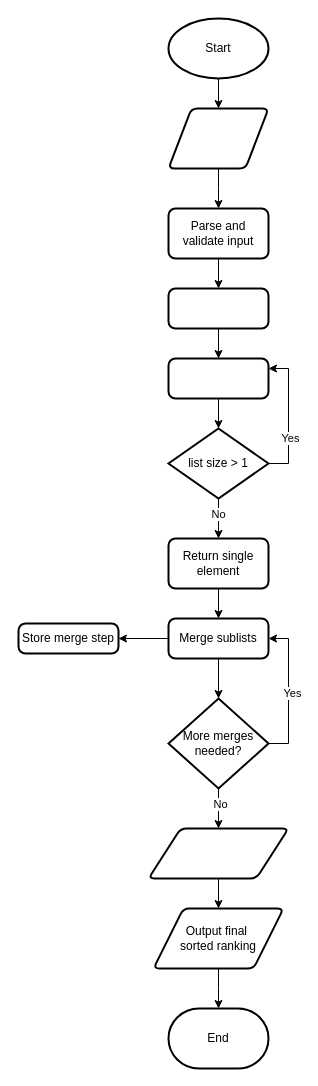
This 318x1086 diagram has some shape labels left out. Each missing label, with the centre of its shape:
"Convert to a list of tuples" goes at (218,308).
"Display step by step merge sort" goes at (218,853).
"Input: Shuttle data" goes at (218,138).
"Split list into halves" goes at (218,378).
